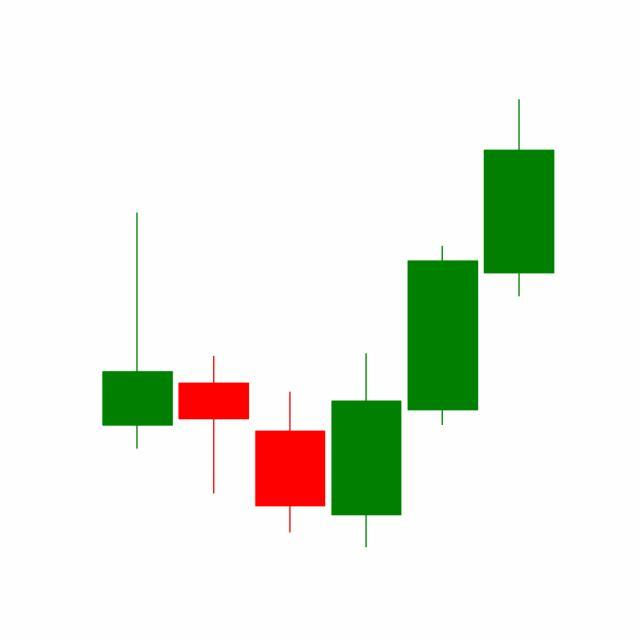Three Outside Up-Down: (252, 242, 482, 549)
